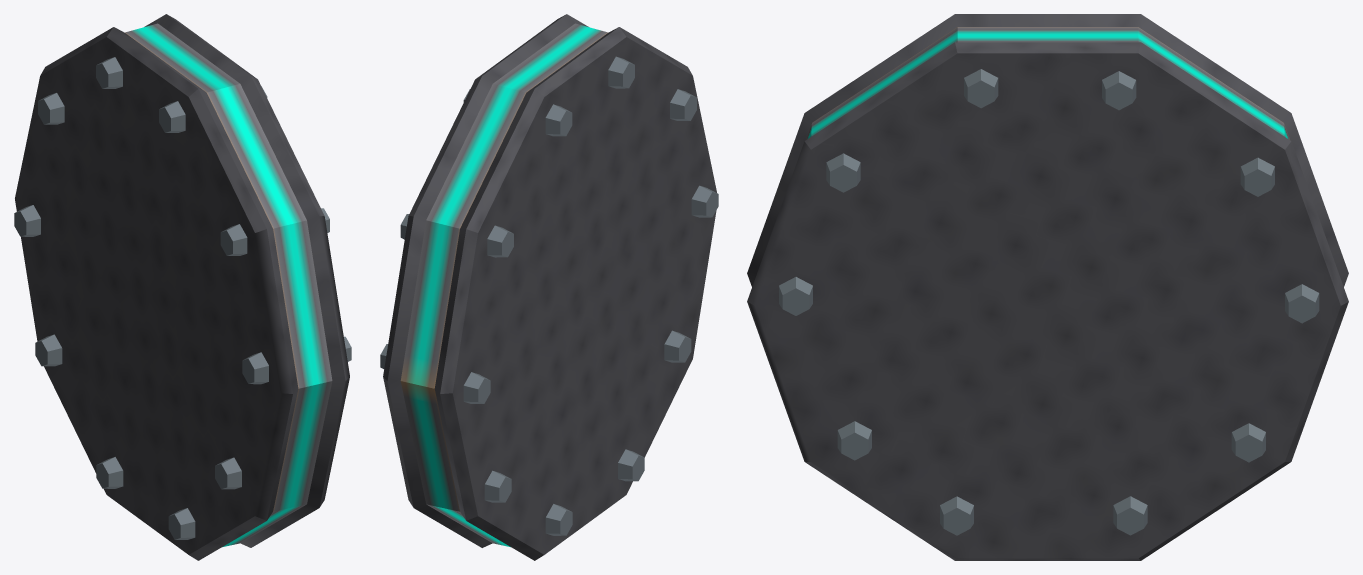
File: SM_Bld_Pipe_Small_Cap_01.fbx
3 renders of one model, left to right at view 1: azimuth 30°, elevation 25°; view 2: azimuth 150°, elevation 25°; view 3: azimuth 270°, elevation 25°, orthographic. The views are drawn at different scales.
Parts seen in each view (by area): view 1: SM_Bld_Pipe_Small_Cap_01; view 2: SM_Bld_Pipe_Small_Cap_01; view 3: SM_Bld_Pipe_Small_Cap_01.
Boxes of the visible parts, <box> form: SM_Bld_Pipe_Small_Cap_01: <box>14,14,351,560</box>; SM_Bld_Pipe_Small_Cap_01: <box>380,14,718,560</box>; SM_Bld_Pipe_Small_Cap_01: <box>747,14,1348,560</box>.
Bounding box in the file's own units: 13.85 × 64.83 × 68.17.
